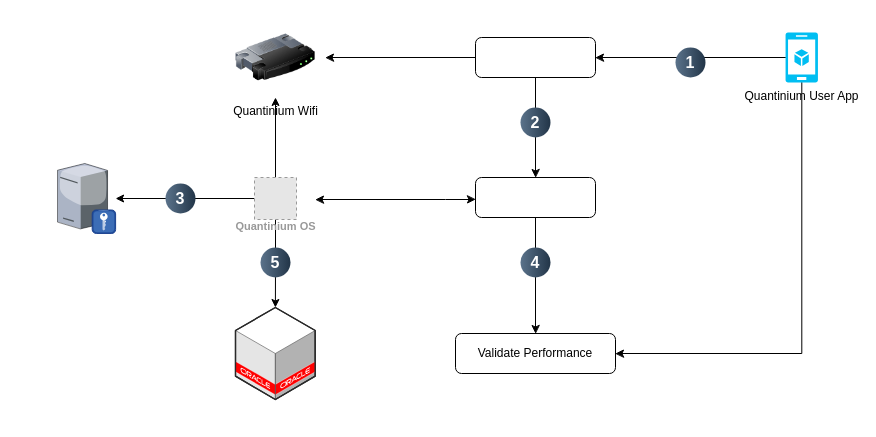
The diagram is 876 pixels wide and 437 high, and some of its shapes have lost their labels. Grey dashed boxes stand in for pictures. The shapes that lost their labels are listed below. From the top down, each one's centre as x and y in pixels, then its label:
point 535,57: Connectivity
point 86,198: Quantinium Radius server
point 535,197: Authenticate
point 274,353: Quantinium data Oracle
